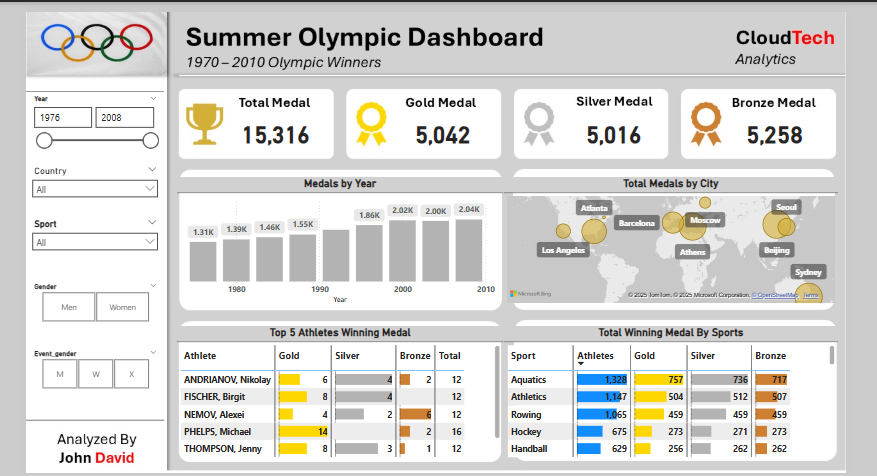

The page's visual inventory and layout, read from the dashboard file:
{"tool":"powerbi","page":{"name":"overview","canvas":[1280,720],"ordinal":2},"visuals":[{"type":"card","fields":{"Values":["DAX Calculation.Total Medals"]},"box":[311.5,155.8,157.2,66.1],"z":0},{"type":"card","fields":{"Values":["DAX Calculation.Gold Medals"]},"box":[571.6,155.8,157.2,66.1],"z":1000},{"type":"card","fields":{"Values":["DAX Calculation.Silver Medals"]},"box":[839,155.8,157.2,66.1],"z":2000},{"type":"card","fields":{"Values":["DAX Calculation.Bronze Medals"]},"box":[1090.3,155.8,157.2,66.1],"z":3000},{"type":"clusteredColumnChart","fields":{"Category":["olympic_medal.Year"],"Y":["DAX Calculation.Total Medals"]},"box":[236.6,257.1,509.9,201.3],"z":4000},{"type":"tableEx","title":"Total Winning Medal By Sports","fields":{"Values":["olympic_medal.Sport","DAX Calculation.Total Athletes","DAX Calculation.Gold Medals","DAX Calculation.Silver Medals","DAX Calculation.Bronze Medals"]},"box":[746.4,490.8,521.6,208.7],"z":5000},{"type":"map","title":"Total Medals by City","fields":{"Category":["olympic_medal.City"],"Size":["DAX Calculation.Total Medals"]},"box":[746.4,257.1,521.6,201.3],"z":6000},{"type":"tableEx","title":"Top 5 Athletes Winning Medal","fields":{"Values":["olympic_medal.Athlete","DAX Calculation.Gold Medals","DAX Calculation.Silver Medals","DAX Calculation.Bronze Medals","DAX Calculation.Total Medals"]},"box":[236.6,490.8,509.9,208.7],"z":6001},{"type":"slicer","fields":{"Values":["olympic_medal.Year"]},"box":[0,119,216,102.9],"z":6002},{"type":"slicer","fields":{"Values":["olympic_medal.Country"]},"box":[0,233.6,216,83.8],"z":6003},{"type":"slicer","fields":{"Values":["olympic_medal.Sport"]},"box":[0,317.4,216,83.8],"z":6004},{"type":"slicer","fields":{"Values":["olympic_medal.Gender"]},"box":[0,417.3,216,73.5],"z":6005},{"type":"slicer","fields":{"Values":["olympic_medal.Event_gender"]},"box":[0,521.6,216,73.5],"z":6006},{"type":"shape","box":[0,620.1,216,35.3],"z":6007}]}

Visuals, with their boxes on the page's 1280x720 design canvas (x1, y1, x2, y2). These are canvas units, not pixel positions in the 877x476 screenshot, which may show the page scaled, cropped or inside an application window:
card - DAX Calculation.Total Medals: bbox(312, 156, 469, 222)
card - DAX Calculation.Gold Medals: bbox(572, 156, 729, 222)
card - DAX Calculation.Silver Medals: bbox(839, 156, 996, 222)
card - DAX Calculation.Bronze Medals: bbox(1090, 156, 1248, 222)
clusteredColumnChart - olympic_medal.Year x DAX Calculation.Total Medals: bbox(237, 257, 746, 458)
"Total Winning Medal By Sports" tableEx: bbox(746, 491, 1268, 700)
"Total Medals by City" map: bbox(746, 257, 1268, 458)
"Top 5 Athletes Winning Medal" tableEx: bbox(237, 491, 746, 700)
slicer - olympic_medal.Year: bbox(0, 119, 216, 222)
slicer - olympic_medal.Country: bbox(0, 234, 216, 317)
slicer - olympic_medal.Sport: bbox(0, 317, 216, 401)
slicer - olympic_medal.Gender: bbox(0, 417, 216, 491)
slicer - olympic_medal.Event_gender: bbox(0, 522, 216, 595)
shape: bbox(0, 620, 216, 655)
